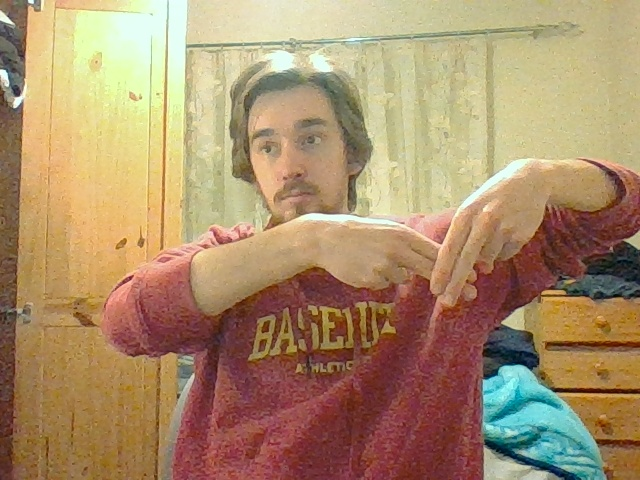father: (390, 189, 507, 306)
